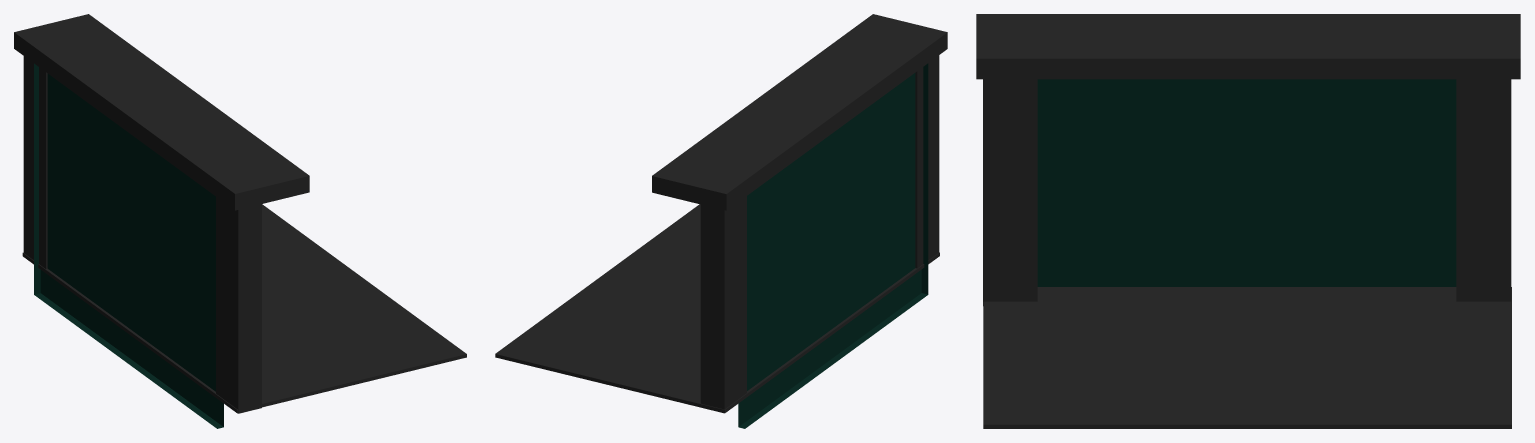
The model's file is Background.fbx.
3 renders of one model, left to right at view 1: azimuth 30°, elevation 25°; view 2: azimuth 150°, elevation 25°; view 3: azimuth 270°, elevation 25°, orthographic. The views are drawn at different scales.
Visible parts, largest first — view 1: Cube, Cube.001; view 2: Cube, Cube.001; view 3: Cube, Cube.001.
Boxes of the visible parts, left/top/right/bottom form: Cube: left=14, top=14, right=466, bottom=413; Cube.001: left=34, top=63, right=223, bottom=428; Cube: left=495, top=14, right=947, bottom=413; Cube.001: left=738, top=63, right=928, bottom=428; Cube: left=976, top=14, right=1520, bottom=428; Cube.001: left=1037, top=79, right=1456, bottom=286.
Size of the model in its own units: 204 by 207 by 334.
